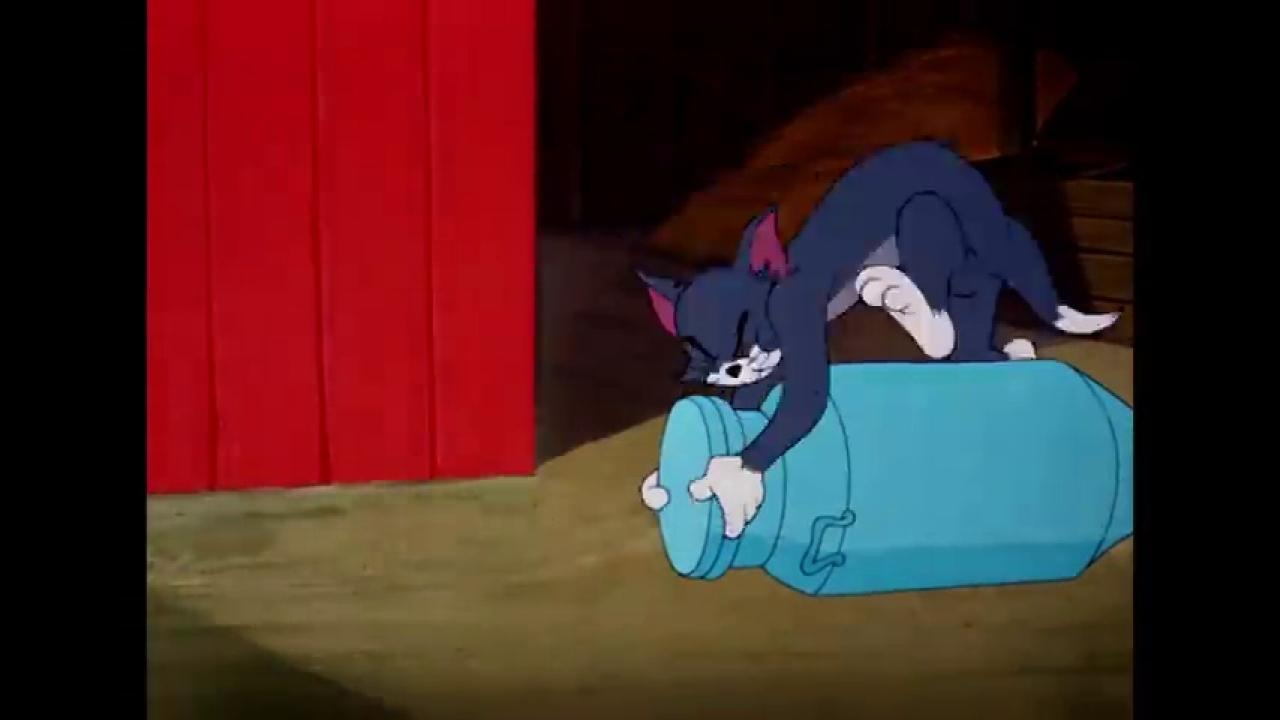Tom: (635, 135, 1129, 540)
